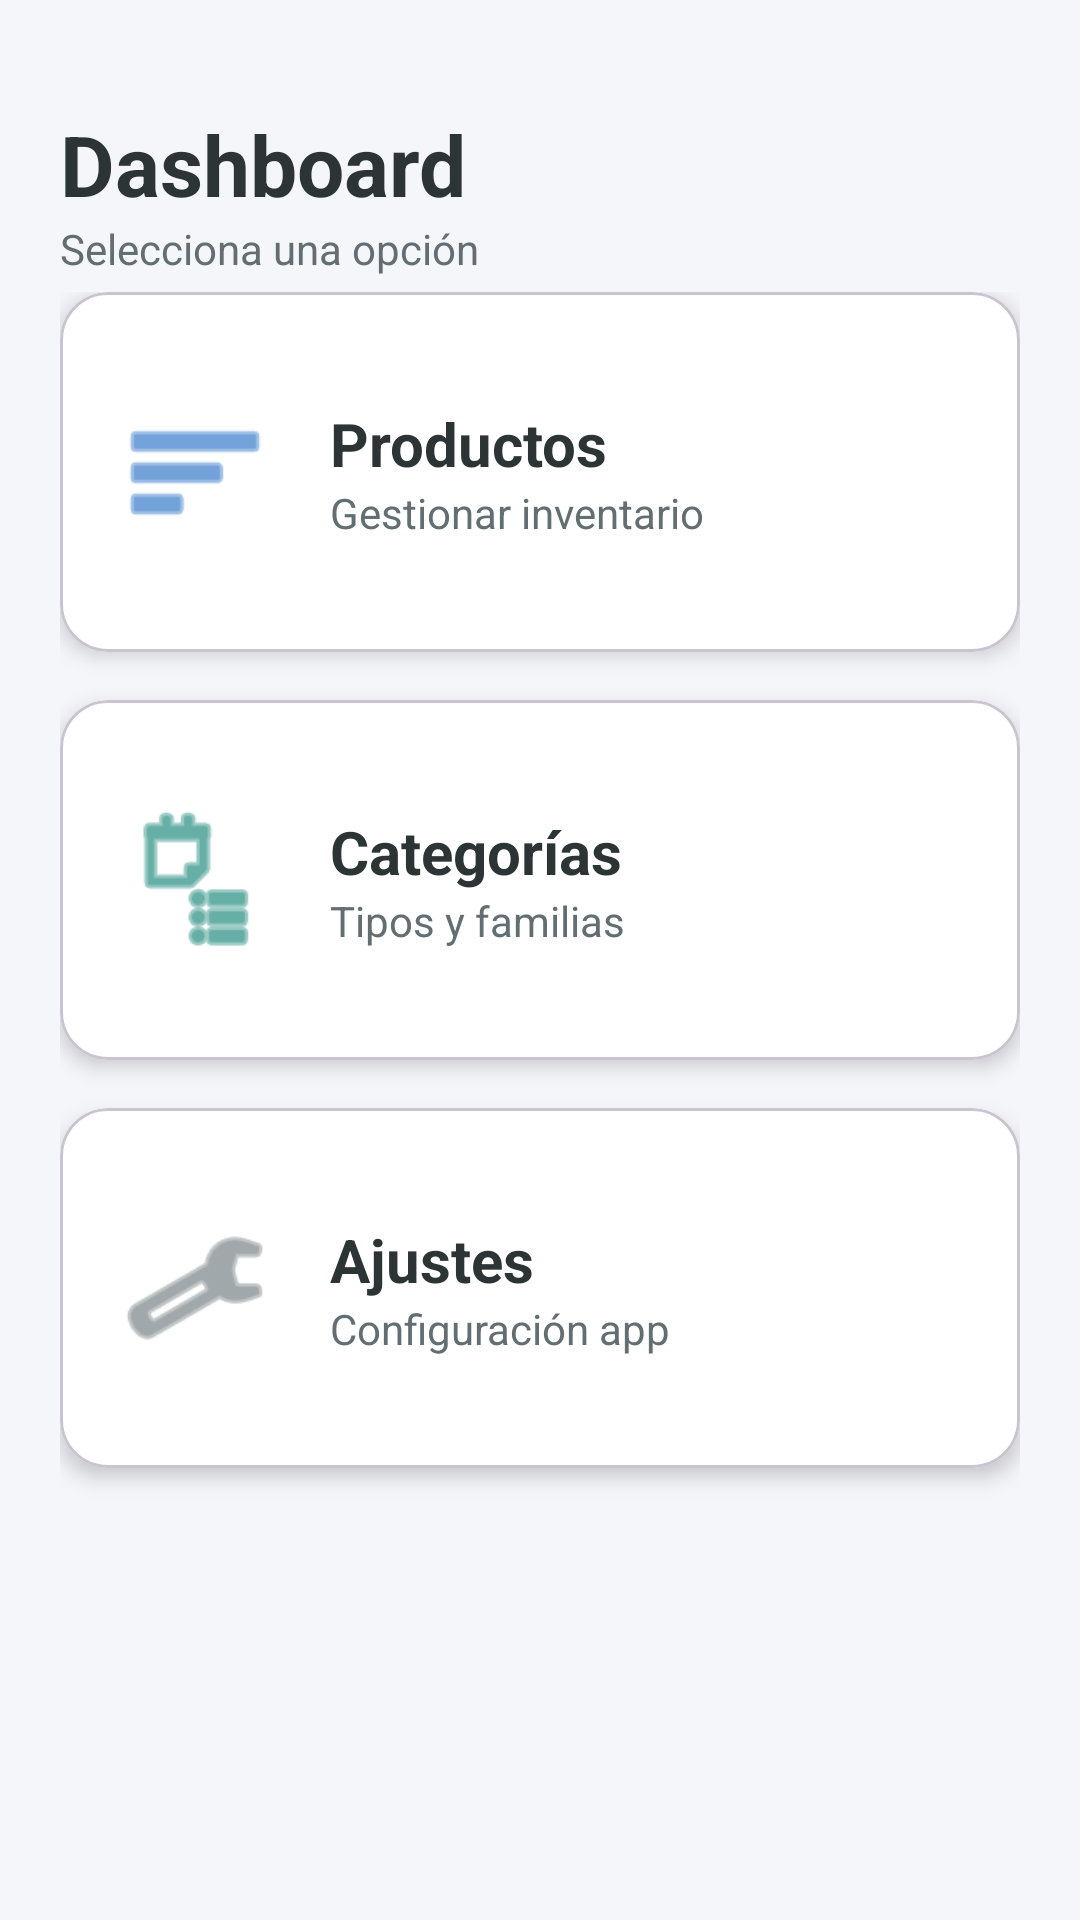

Icon bounding boxes for this 1080 x 1920 phone screenshot, format (x1, y1, x2, y2):
agenda: (143, 812, 249, 946)
preferences: (127, 1237, 262, 1339)
sort by size: (130, 431, 260, 515)
